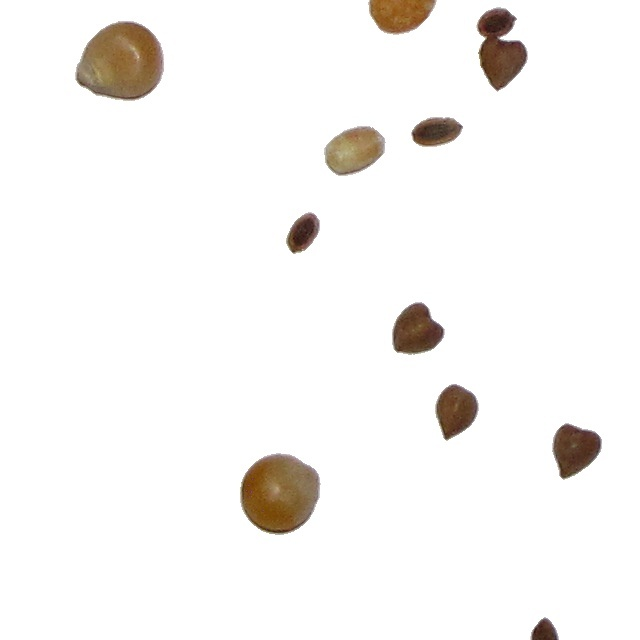buckwheat: (551, 422, 603, 481), (391, 301, 446, 356), (475, 32, 524, 93), (434, 383, 480, 442), (410, 116, 464, 148), (285, 211, 321, 255), (527, 616, 564, 640)
mais: (74, 20, 165, 102), (239, 452, 322, 536)
other: (323, 125, 387, 177)
